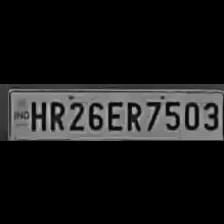0: (181, 98, 199, 130)
2: (65, 97, 84, 130)
3: (200, 97, 220, 130)
5: (160, 96, 180, 130)
6: (85, 98, 103, 130)
7: (142, 97, 160, 131)
E: (104, 97, 124, 131)
H: (27, 97, 46, 130)
R: (122, 97, 142, 130), (46, 97, 64, 130)
